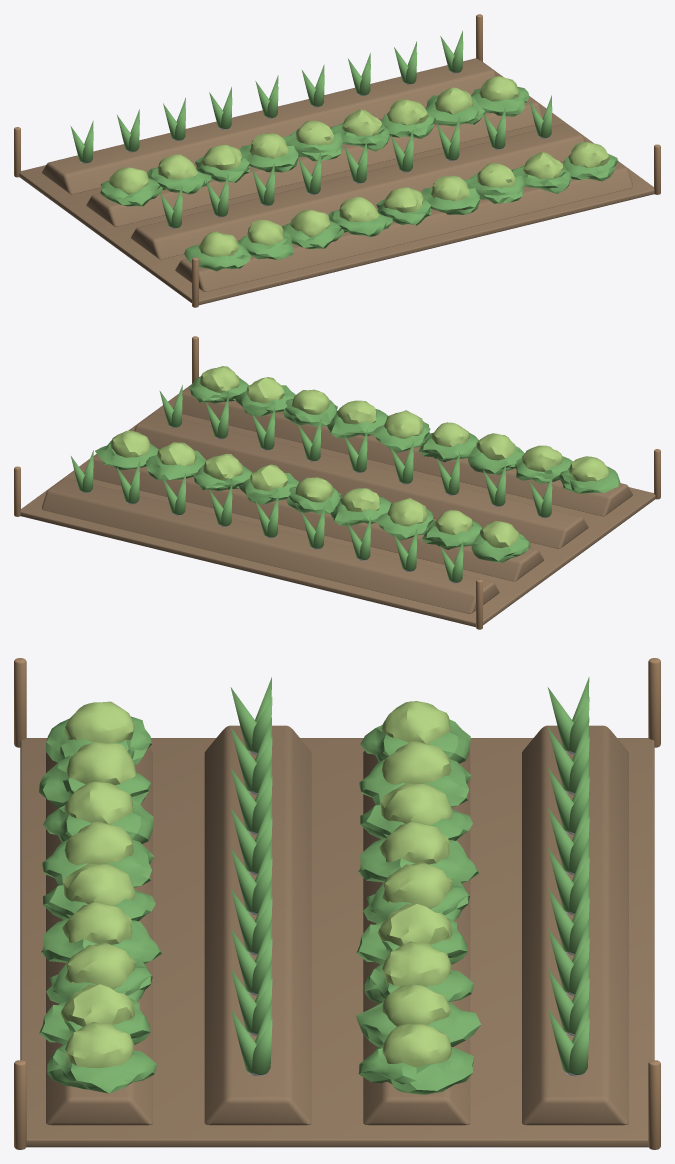
Rendered from hatake.glb.
The picture shows the model from 3 angles, top to bottom: view 1: azimuth 30°, elevation 25°; view 2: azimuth 150°, elevation 25°; view 3: azimuth 270°, elevation 25°; orthographic projection. The views are drawn at different scales.
Parts seen in each view (by area): view 1: hatake; view 2: hatake; view 3: hatake.
Boxes of the visible parts, left/top/right/bottom form: hatake: left=14, top=14, right=660, bottom=307; hatake: left=14, top=336, right=660, bottom=629; hatake: left=14, top=658, right=660, bottom=1149.
Size of the model in its own units: 6.08 by 0.6948 by 4.08.
